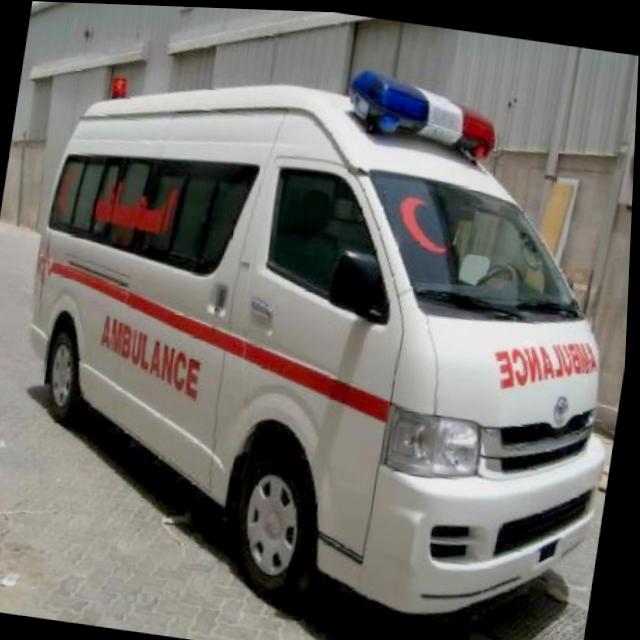emergency: (0, 25, 639, 640)
